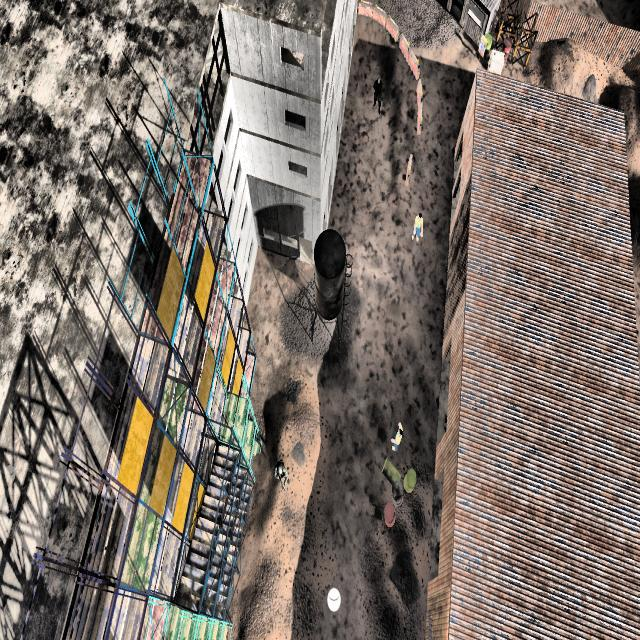bad: (271, 442, 293, 498), (370, 67, 386, 124)
good: (405, 205, 429, 247), (385, 413, 406, 460)
